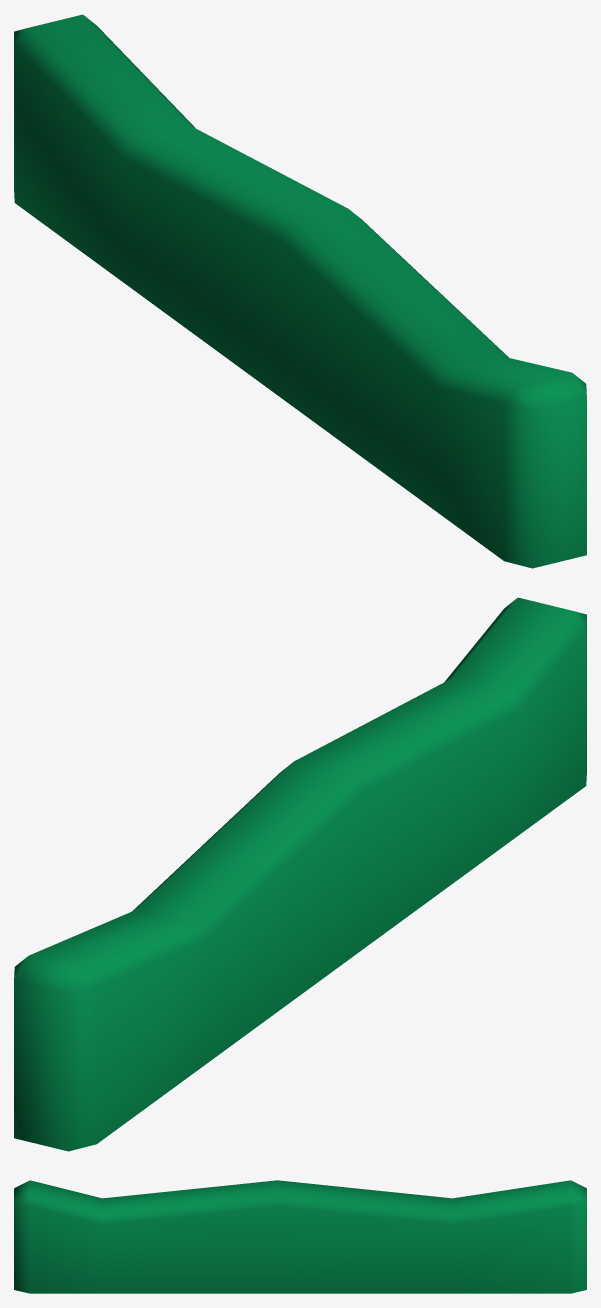
The model's file is Hedge.fbx.
3 views of the same model, one above another, from view 1: azimuth 30°, elevation 25°; view 2: azimuth 150°, elevation 25°; view 3: azimuth 270°, elevation 25° (orthographic). The views are drawn at different scales.
Visible parts, largest first — view 1: Hedge.001; view 2: Hedge.001; view 3: Hedge.001.
Boxes of the visible parts, x1,y1,x2,y2 form: Hedge.001: [14, 14, 586, 568]; Hedge.001: [14, 597, 586, 1151]; Hedge.001: [14, 1180, 586, 1293].
Bounding box in the file's own units: 652 × 1304 × 7130.
